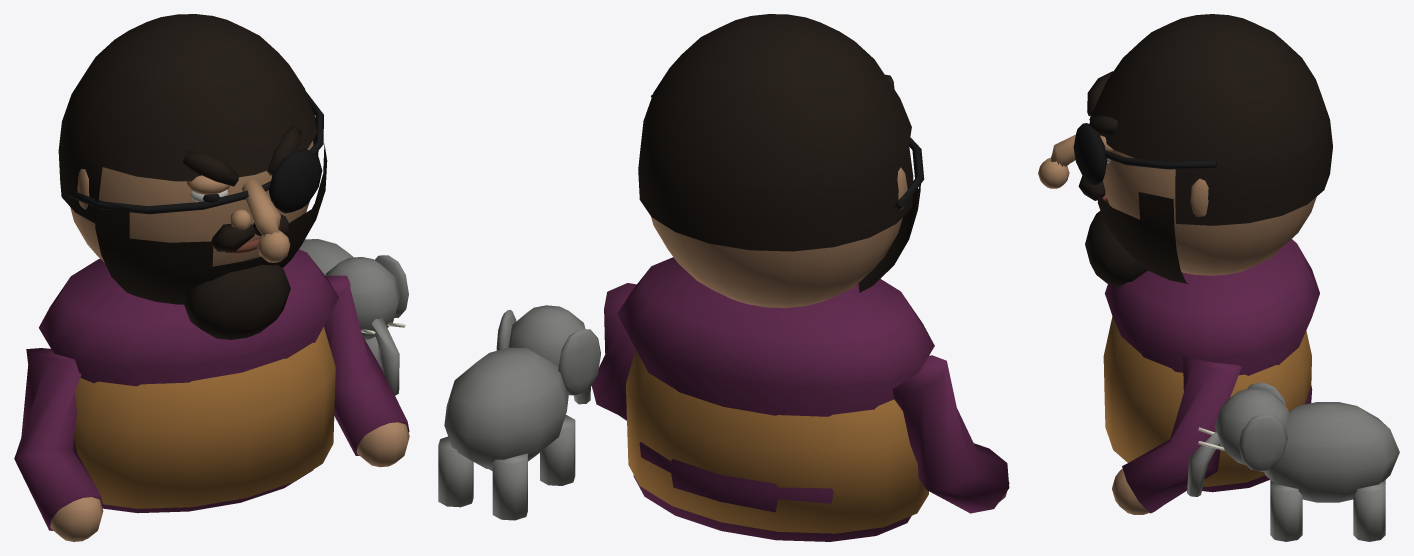
The picture shows the model from 3 angles, left to right: view 1: azimuth 30°, elevation 25°; view 2: azimuth 150°, elevation 25°; view 3: azimuth 270°, elevation 25°; orthographic projection. The views are drawn at different scales.
Parts seen in each view (by area): view 1: fig_body, fig_head, fig_props; view 2: fig_body, fig_head, fig_props; view 3: fig_head, fig_body, fig_props.
Boxes of the visible parts, x1,y1,x2,y2 form: fig_body: (14,249,409,541); fig_head: (58,14,327,339); fig_props: (299,239,408,395); fig_body: (591,257,1009,541); fig_head: (638,14,924,307); fig_props: (438,305,600,520); fig_head: (1038,14,1332,287); fig_body: (1103,239,1319,514); fig_props: (1187,382,1399,541).
Bounding box in the file's own units: 0.9779 × 1 × 0.7838.
